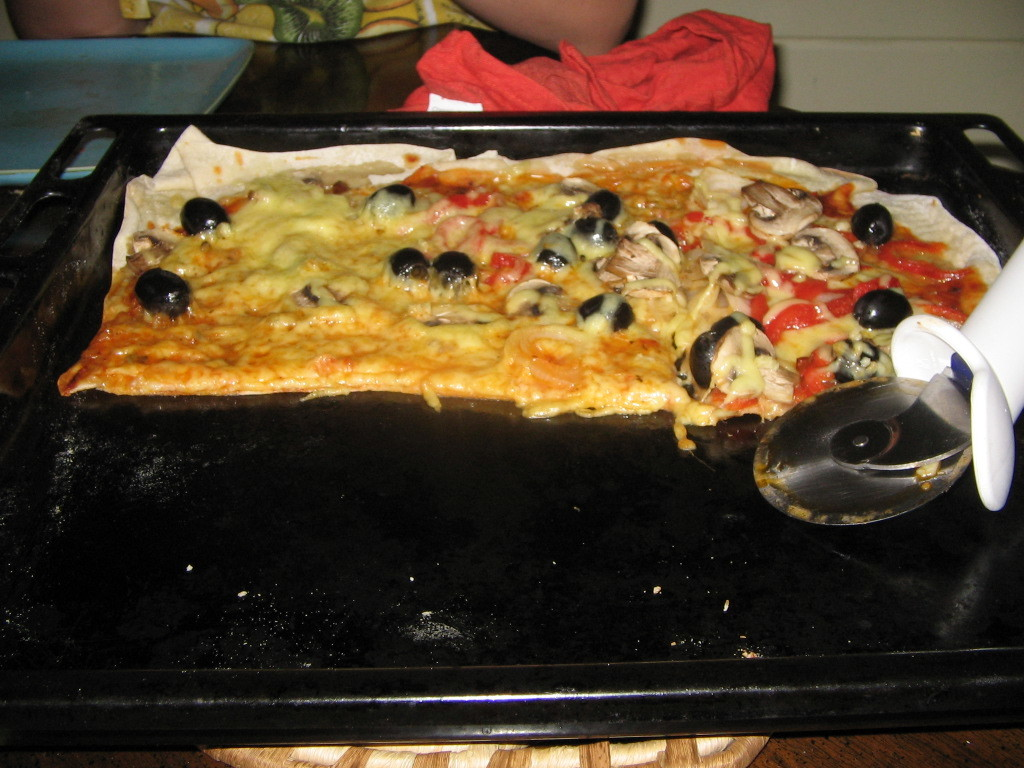Pizza: (16, 120, 1002, 460)
